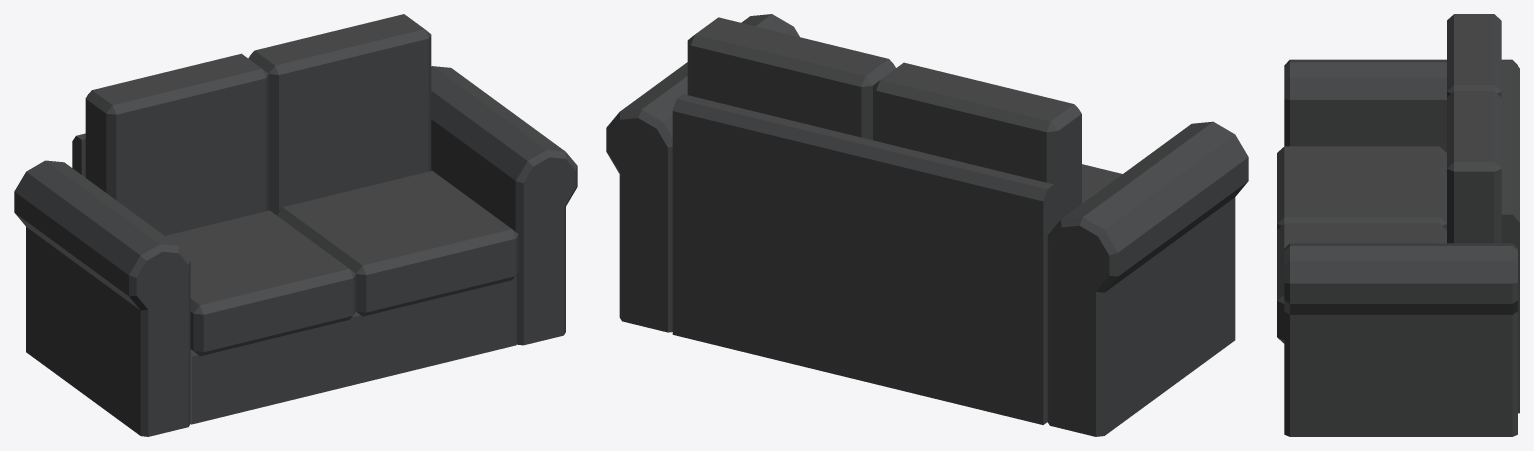
Rendered from SM_Props_Interior_House_Room_Sofa_03.fbx.
3 views of the same model, side by side, from view 1: azimuth 30°, elevation 25°; view 2: azimuth 150°, elevation 25°; view 3: azimuth 270°, elevation 25° (orthographic). The views are drawn at different scales.
Parts seen in each view (by area): view 1: SM_Props_Interior_House_Room_Sofa_03; view 2: SM_Props_Interior_House_Room_Sofa_03; view 3: SM_Props_Interior_House_Room_Sofa_03.
Part boxes in pixels (x1,y1,x2,y2): SM_Props_Interior_House_Room_Sofa_03: (14, 14, 577, 436); SM_Props_Interior_House_Room_Sofa_03: (606, 14, 1248, 436); SM_Props_Interior_House_Room_Sofa_03: (1277, 14, 1519, 436).
Bounding box in the file's own units: 138 × 75 × 66.5.
